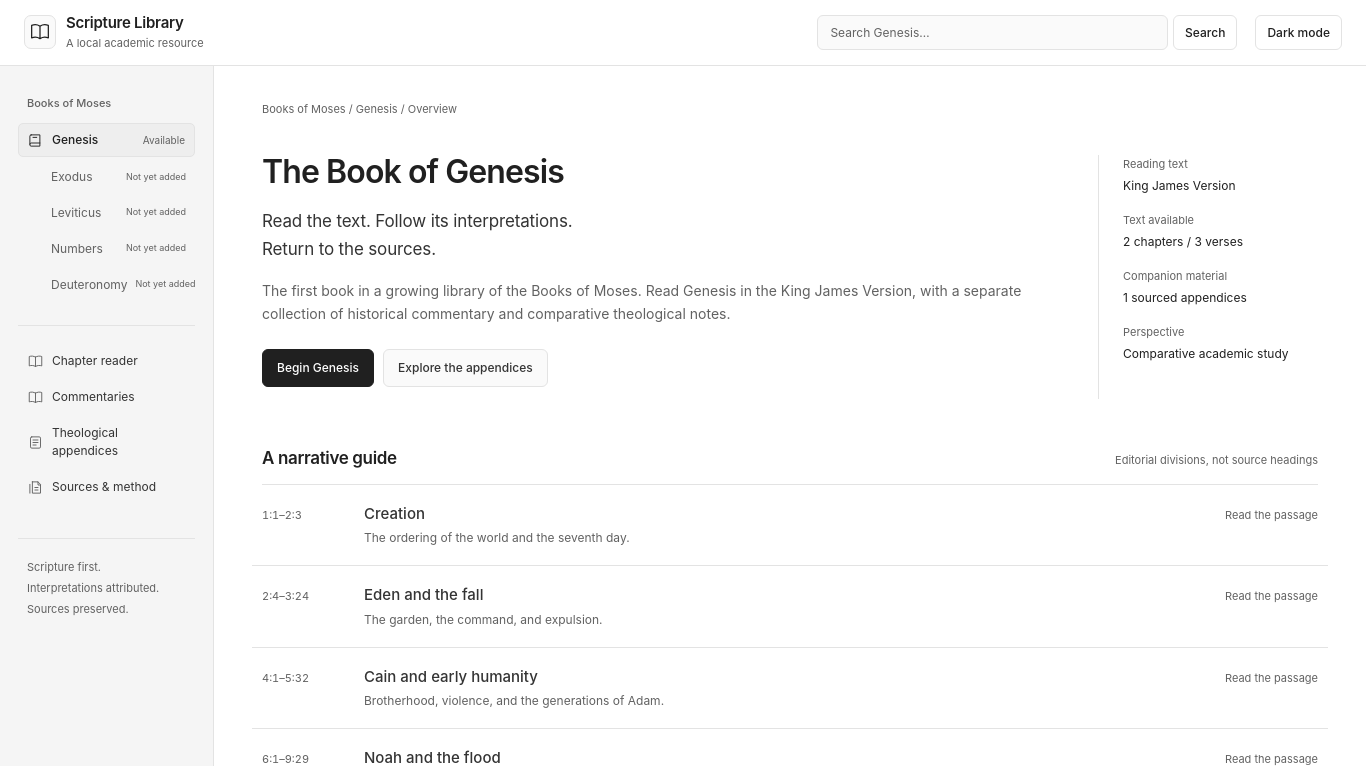
Test: React reader (component-only mocked API) › rejects invalid stored preferences without breaking the reader
expect the heading "The Book of Genesis" is shown: met, box [262,152,564,191]
expect the button "Dark mode" is shown: met, box [1255,15,1342,50]
Click the link "Begin Genesis".
click(318, 368)  # box [262,349,374,387]
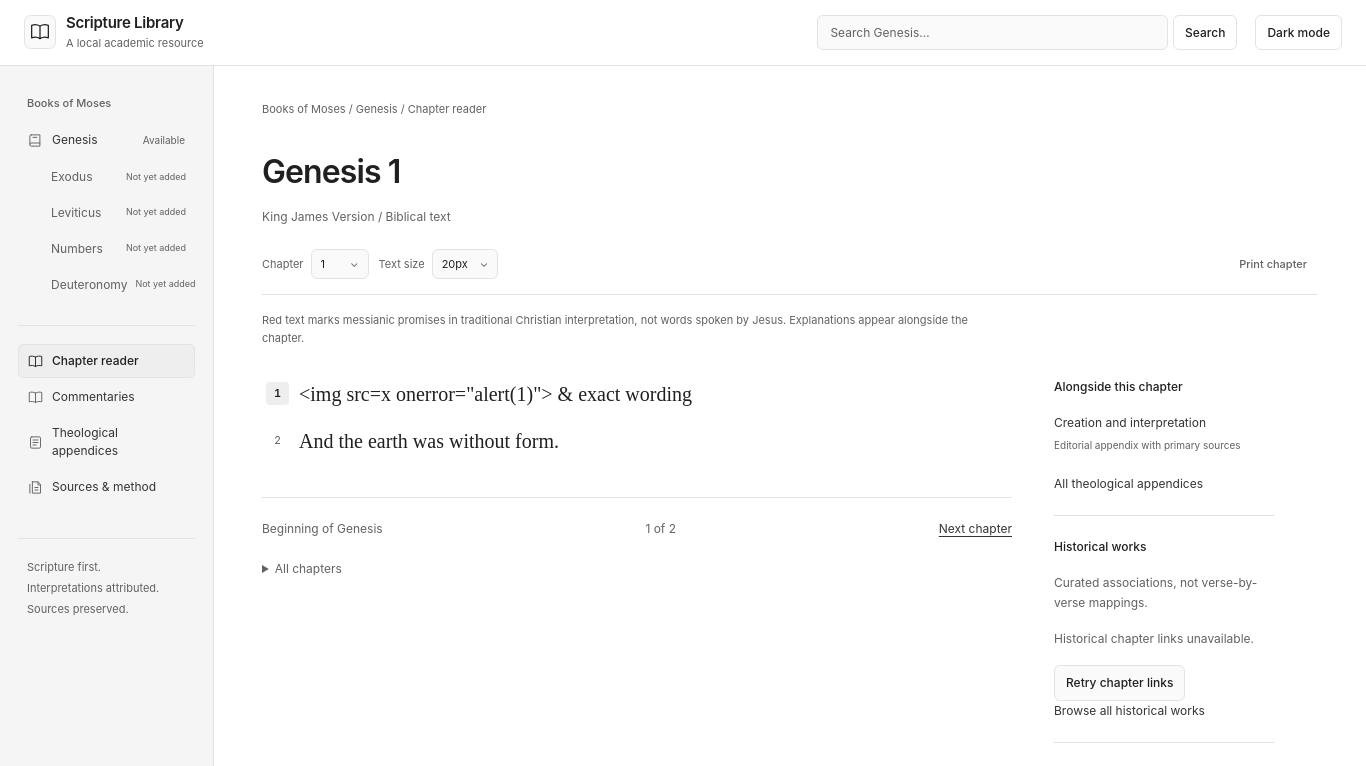
expect the heading "Genesis 1" is shown: met, box [262,152,400,191]
expect the dropdown named "Text size" shows "20px": met, box [432,248,498,279]
